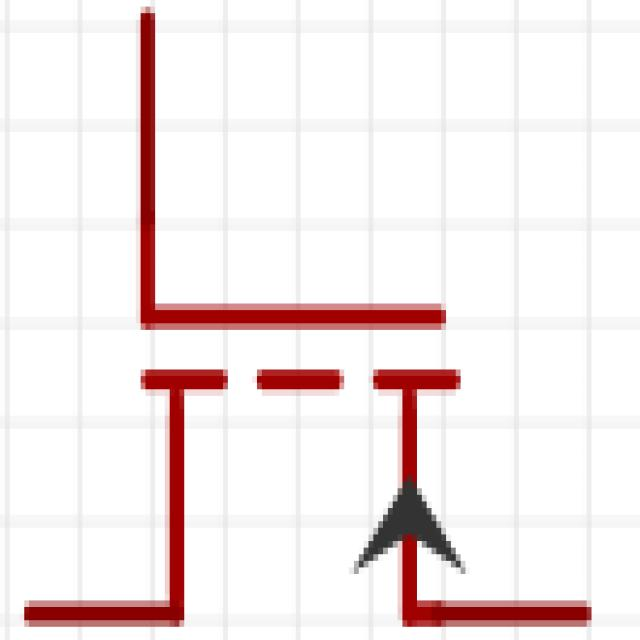nmos: (24, 26, 600, 640)
